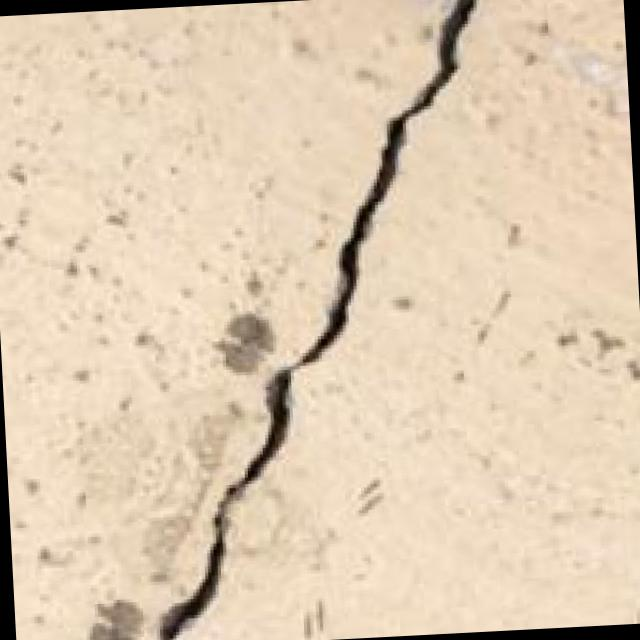crack: (105, 0, 544, 640)
